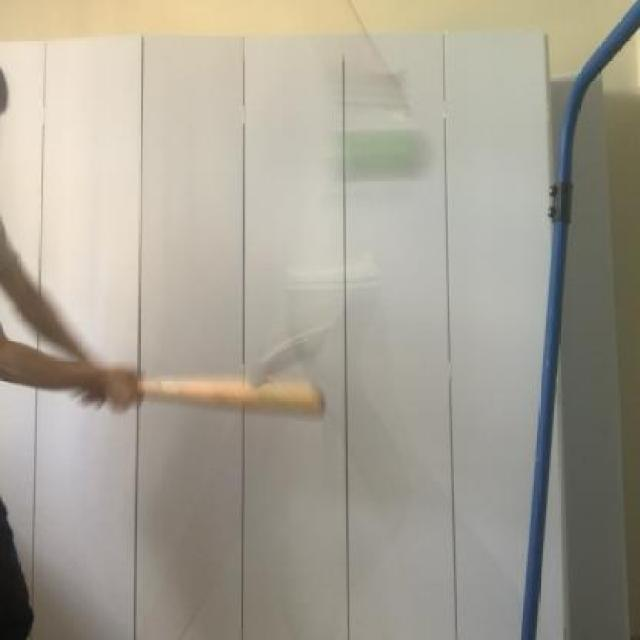baseball: (329, 109, 433, 189)
